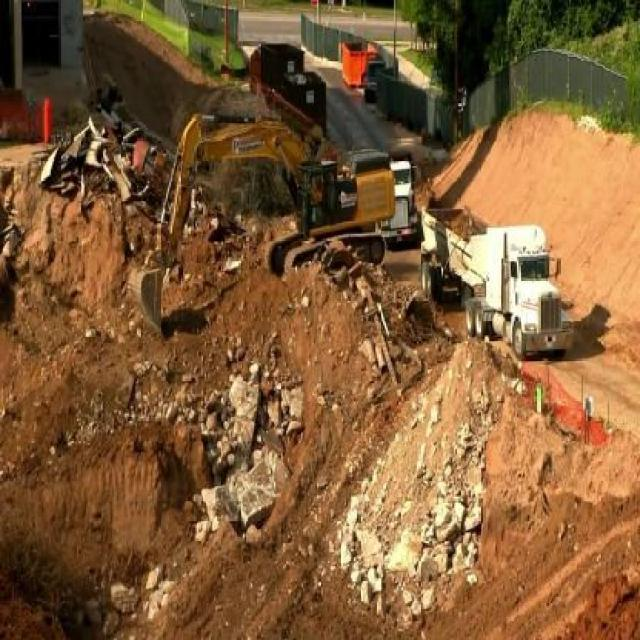dump_truck: (418, 210, 574, 356), (378, 148, 418, 254)
excavator: (132, 110, 396, 336)
